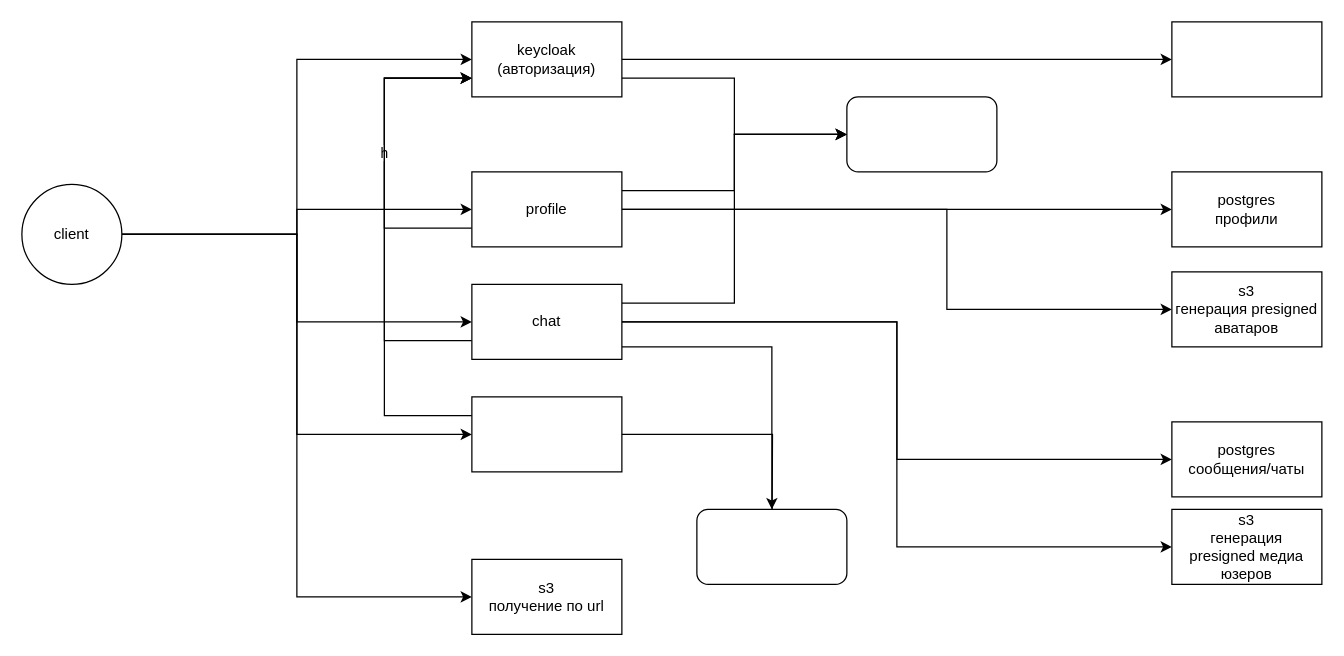
Some shapes in this 1344 by 656 pixel diagram are drawn without their labels. Each missing label, with the centre of its shape:
kafka удаление пользователя: the point at 921,134
postgres данные пользователей: the point at 1246,59
redis pub/sub сообщения чтение: the point at 771,546
websocket: the point at 546,434
